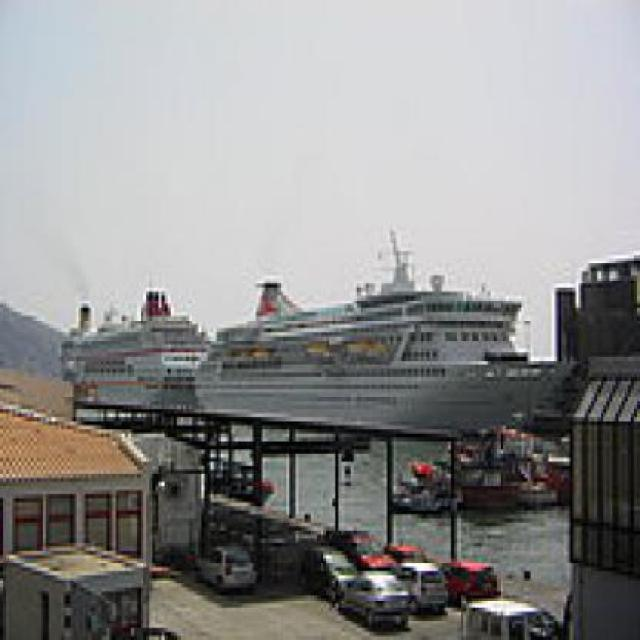cruise: (190, 253, 556, 439)
